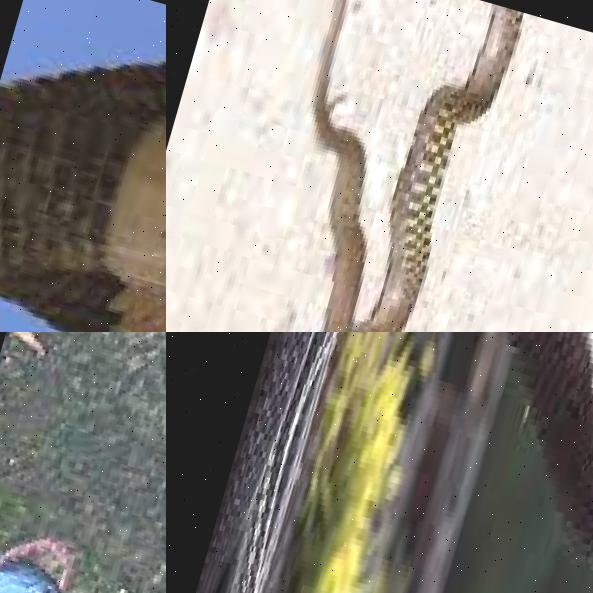snake: (223, 0, 559, 332), (169, 332, 593, 593), (0, 0, 166, 332), (53, 332, 166, 539)
